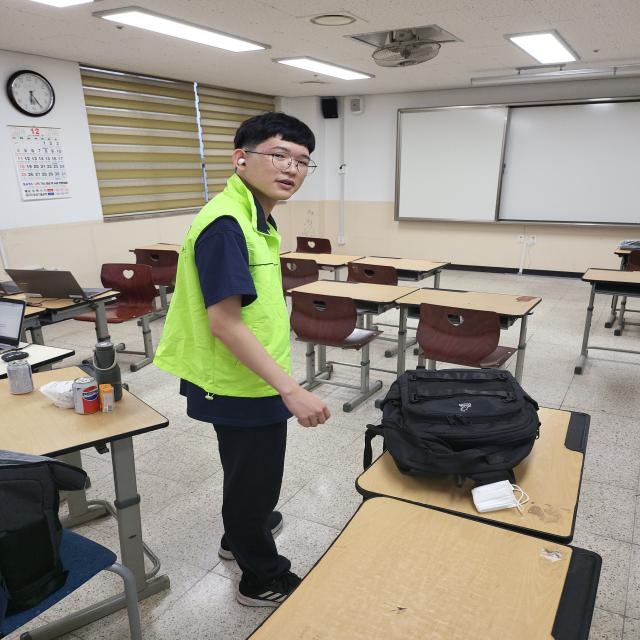weston_spy: (133, 164, 321, 415)
